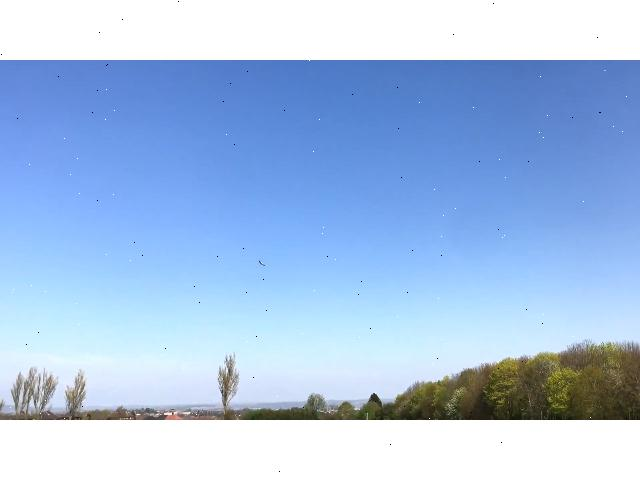Anti-Drone: (252, 254, 272, 275)
